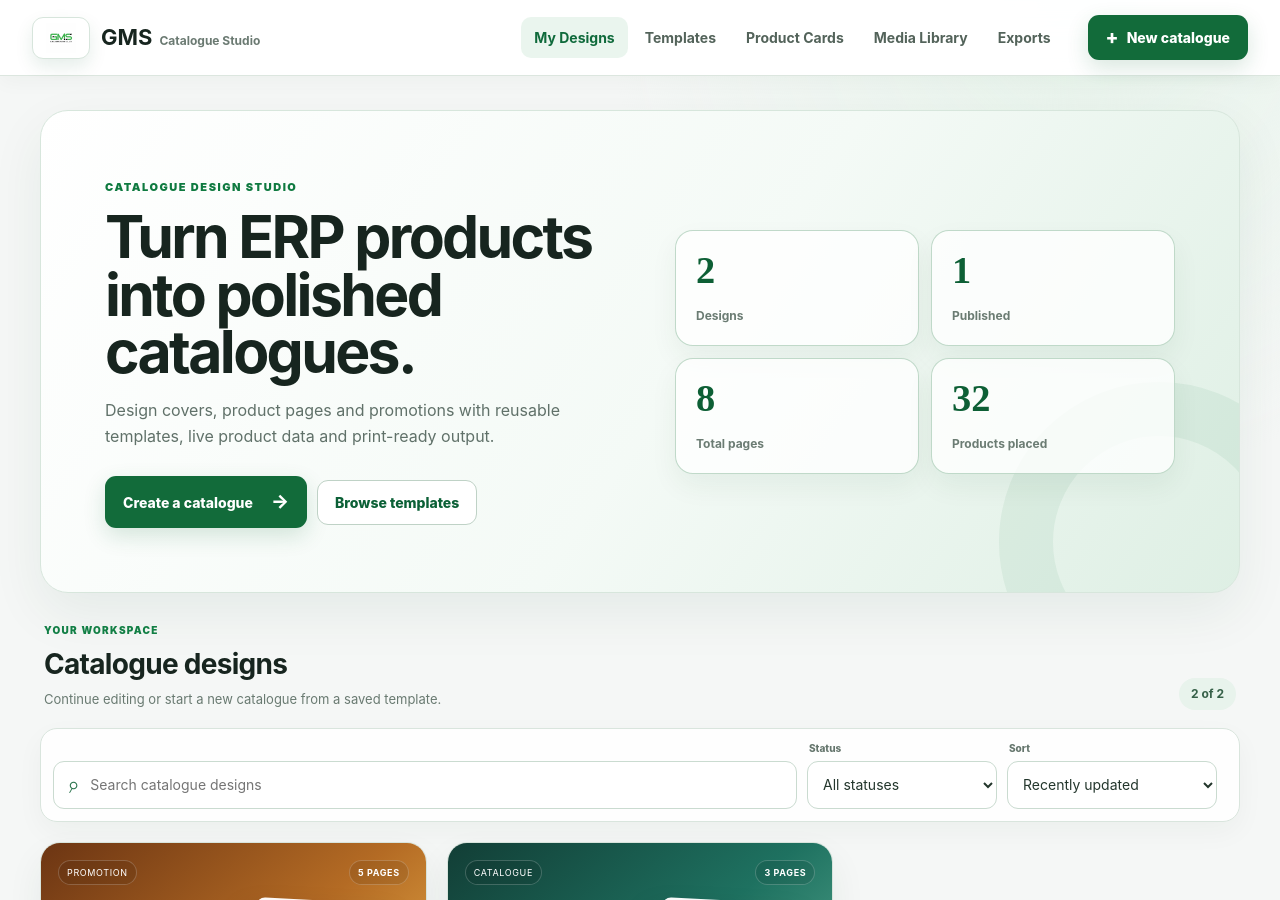
Test: Catalogue Studio home › uses summary buttons to filter and reveal matching designs
Click the button named "Show published designs". click: [962, 270]
box: [944,243,979,297]
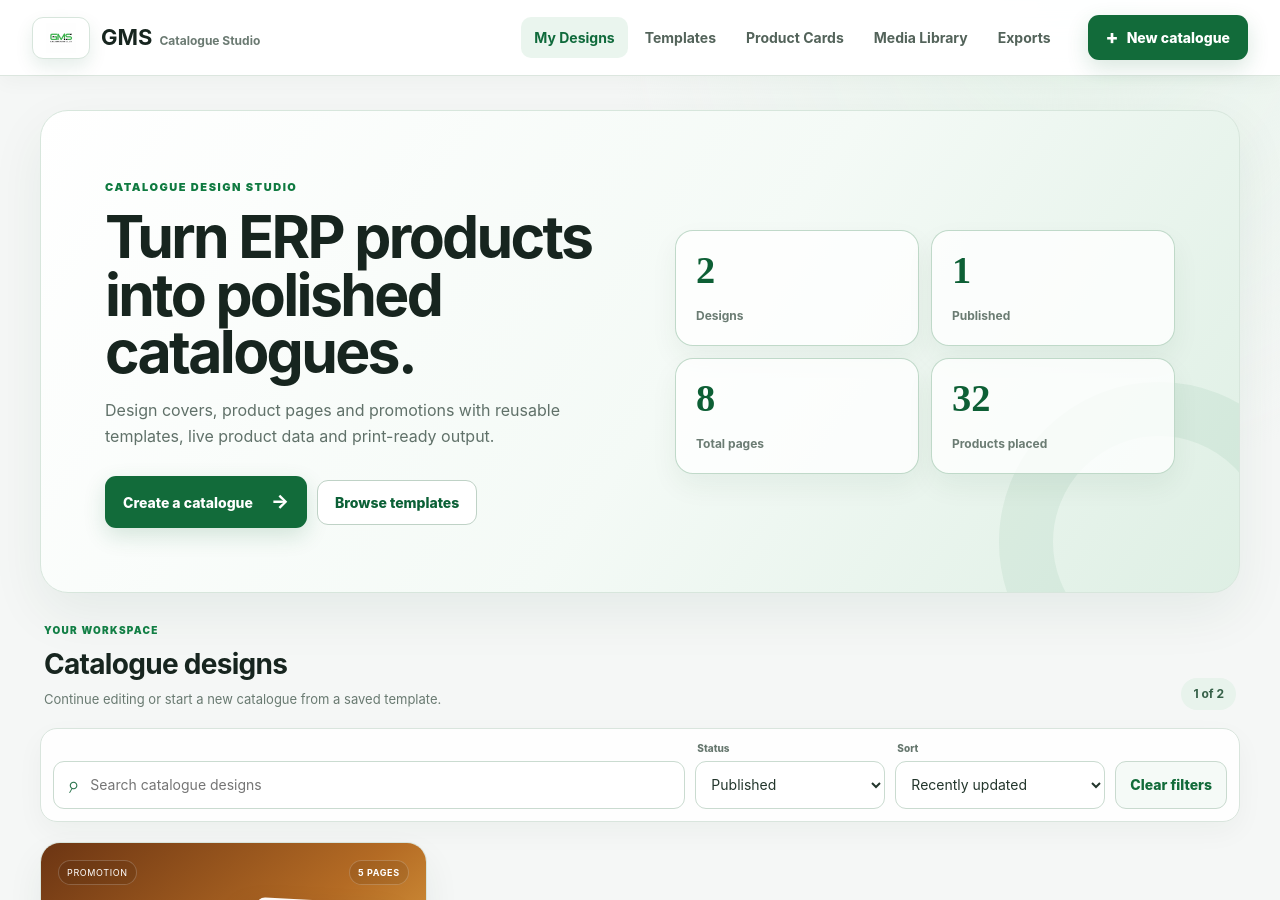
Now the dropdown named "Filter by status" shows "Published", box [695,761,885,809]
Click the button named "Show all designs". click: [706, 270]
box: [688,243,723,297]
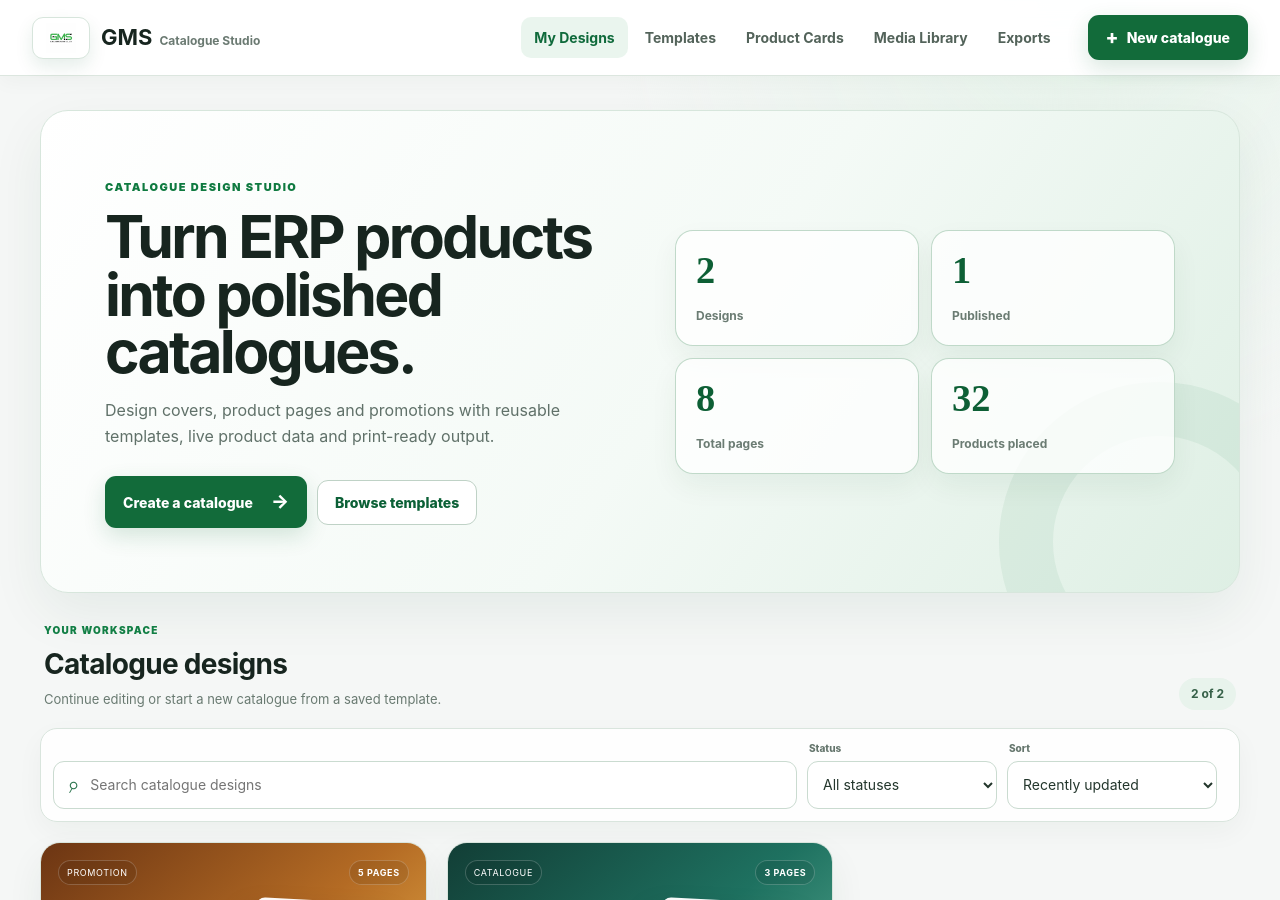
Now the dropdown named "Filter by status" shows "All statuses", box [807,761,997,809]
